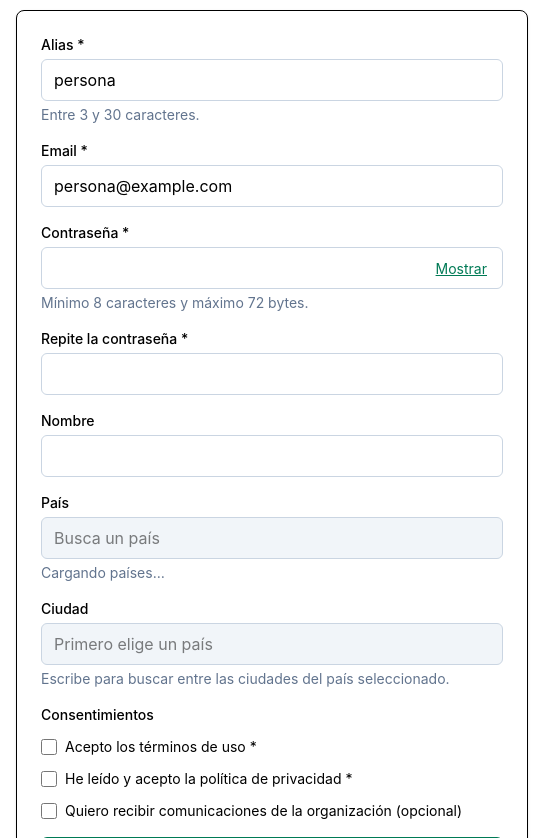
Test case: RegisterPage › no acepta una ciudad escrita sin elegir una sugerencia
Earlier steps of the test are not shown.
Step 1. Type "password123" into the password field labelled "Contraseña *" → (272, 268), box left=41, top=247, right=503, bottom=289
Step 2. Type "password123" into the password field labelled "Repite la contraseña *" → (272, 374), box left=41, top=353, right=503, bottom=395
Step 3. Click the checkbox labelled "Acepto los términos de uso *" → (49, 747), box left=41, top=739, right=57, bottom=755
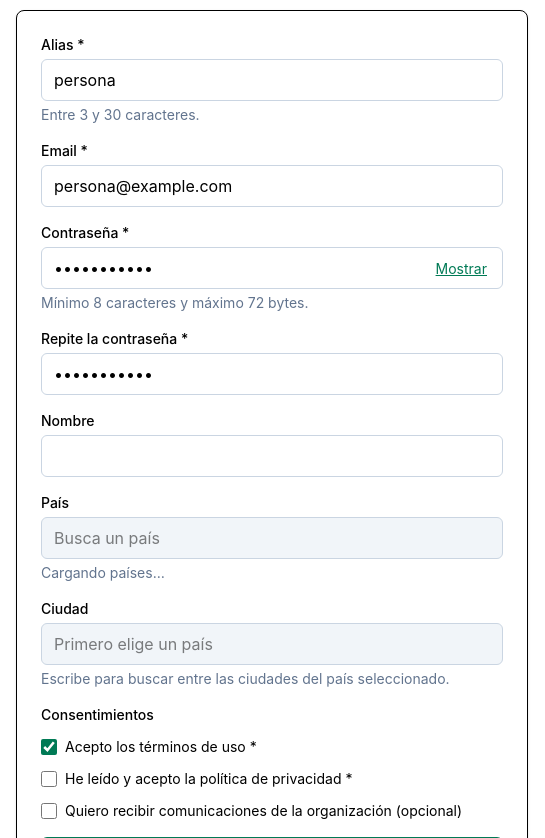
Step 4. Click the checkbox labelled "He leído y acepto la política de privacidad *" → (49, 779), box left=41, top=771, right=57, bottom=787
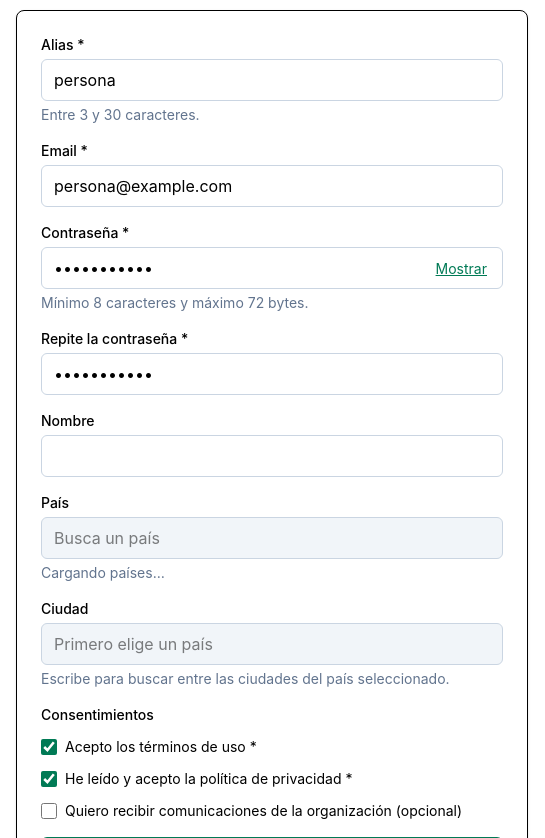
Step 5. Type "España" into the dropdown labelled "País" → (272, 538), box left=41, top=517, right=503, bottom=559
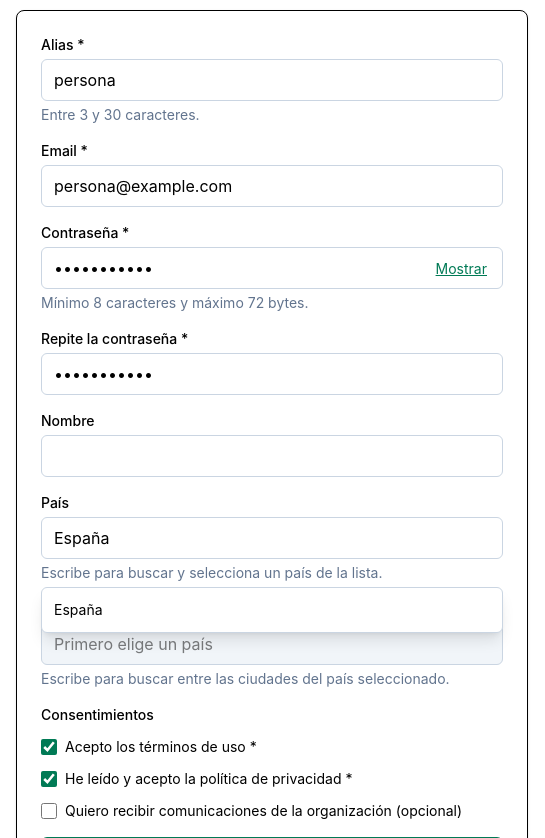
Step 6. Click the option "España" → (78, 610), box left=54, top=601, right=102, bottom=618
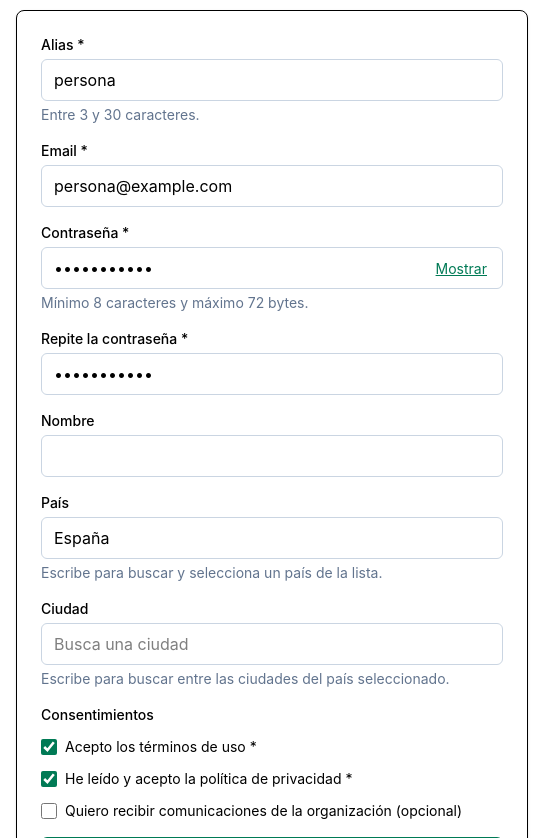
Step 7. Type "Madrid" into the dropdown labelled "Ciudad" → (272, 644), box left=41, top=623, right=503, bottom=665
(page scrolled)
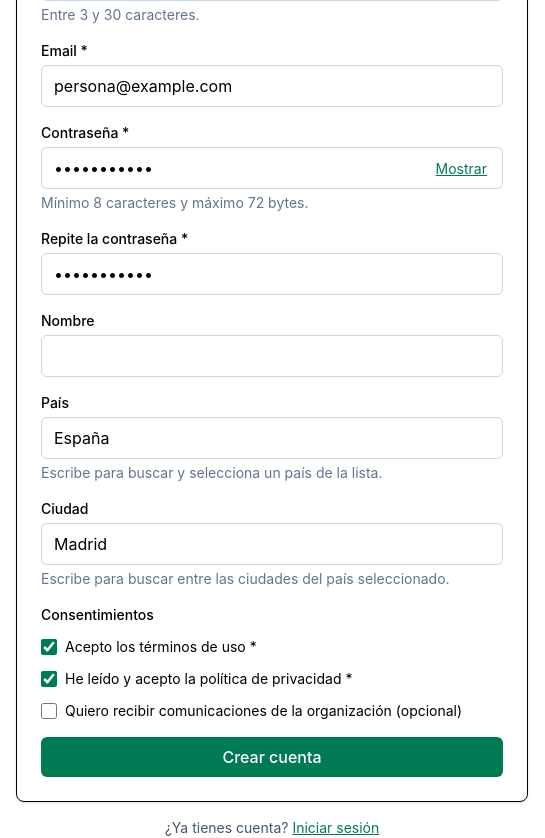
Step 8. Click the button "Crear cuenta" → (272, 757), box left=41, top=737, right=503, bottom=777
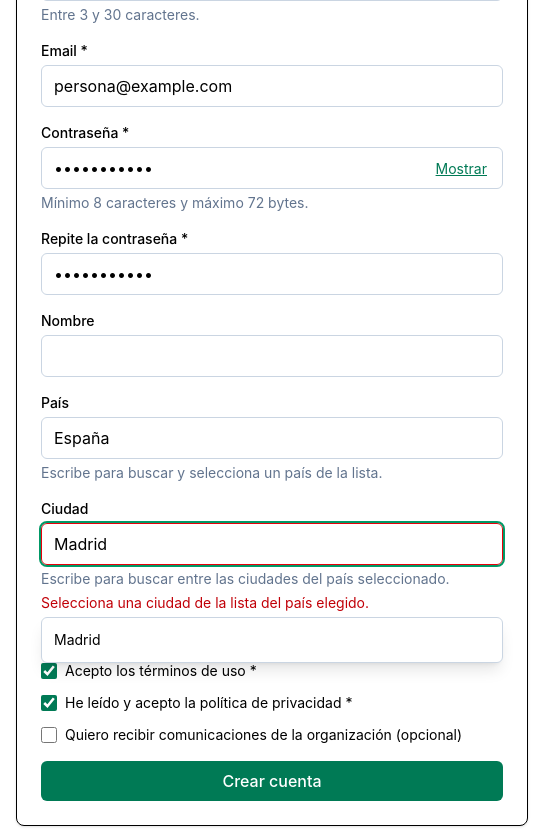
Result: the text "Selecciona una ciudad de la lista del país elegido." is shown at left=41, top=594, right=369, bottom=611
